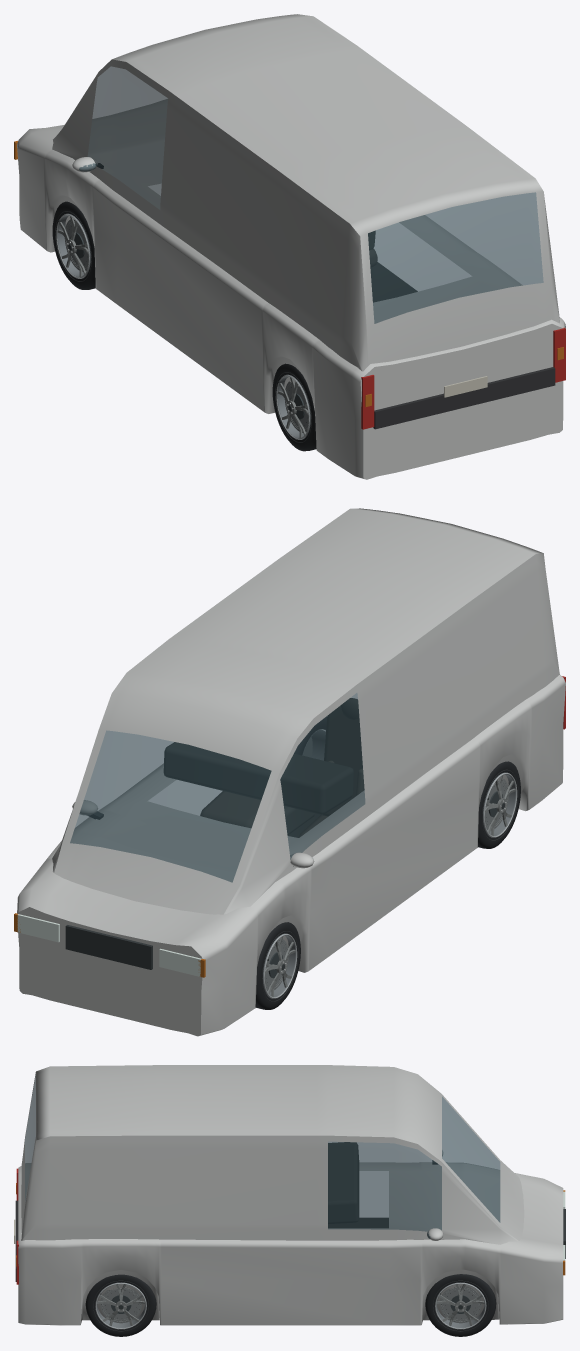
Rendered from courier.glb.
3 views of the same model, one above another, from view 1: azimuth 30°, elevation 25°; view 2: azimuth 150°, elevation 25°; view 3: azimuth 270°, elevation 25° (orthographic). The views are drawn at different scales.
Parts seen in each view (by area): view 1: paint, glass, wheelSurface (×2), trim, brake; view 2: paint, glass, trim, wheelSurface (×3), head; view 3: paint, glass, wheelSurface (×2), trim.
Boxes of the visible parts, x1=… form: paint: x1=17, y1=14, x2=565, y2=479; glass: x1=79, y1=66, x2=543, y2=323; wheelSurface (×2): x1=52, y1=201, x2=316, y2=451; trim: x1=92, y1=163, x2=555, y2=429; brake: x1=361, y1=327, x2=565, y2=429; paint: x1=17, y1=508, x2=565, y2=1036; glass: x1=70, y1=693, x2=365, y2=882; trim: x1=65, y1=698, x2=364, y2=969; wheelSurface (×3): x1=255, y1=716, x2=520, y2=1009; head: x1=17, y1=914, x2=201, y2=976; paint: x1=18, y1=1065, x2=563, y2=1325; glass: x1=25, y1=1074, x2=500, y2=1238; wheelSurface (×2): x1=85, y1=1274, x2=496, y2=1336; trim: x1=14, y1=1142, x2=565, y2=1281.
Size of the model in its own units: 2.23 by 2.35 by 5.75.
